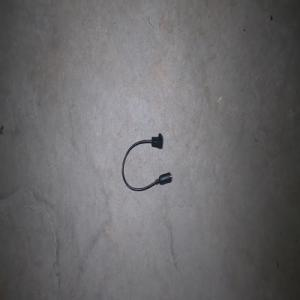Wire: (121, 133, 172, 191)
